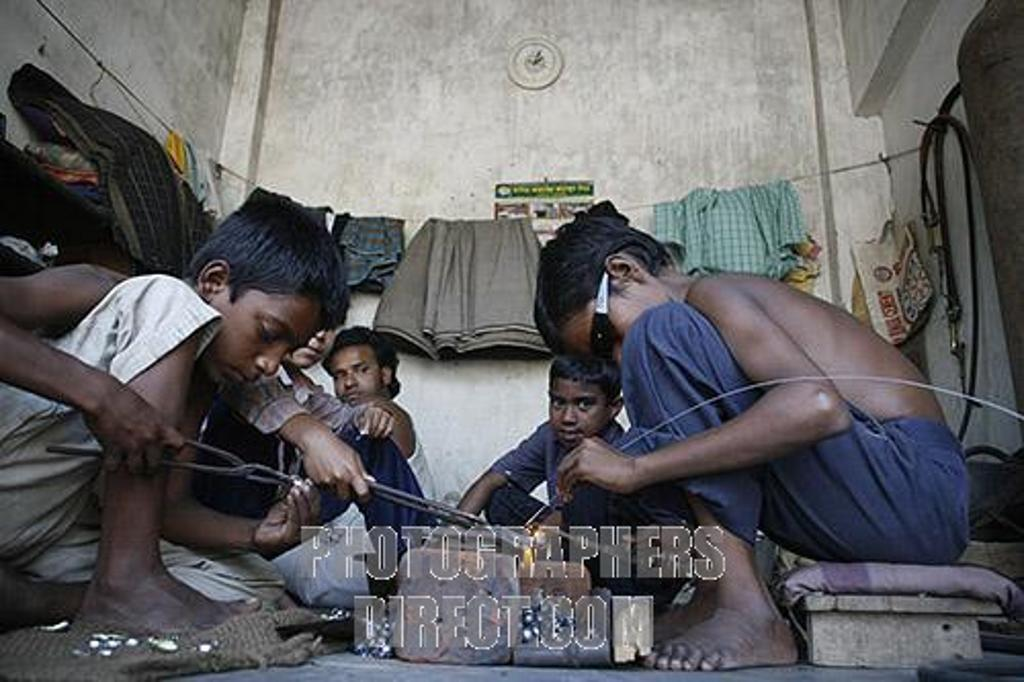face: (203, 284, 316, 384), (564, 289, 675, 363), (549, 373, 608, 447), (329, 343, 381, 405)
